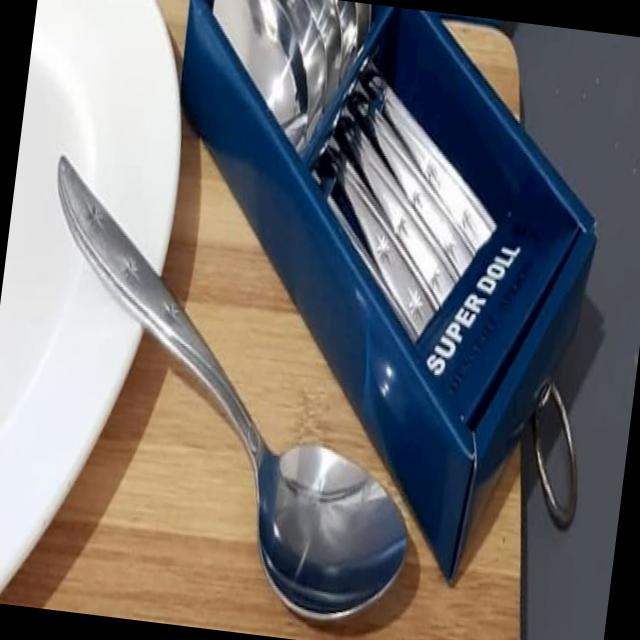spoon: (46, 145, 425, 630), (195, 1, 527, 357)
